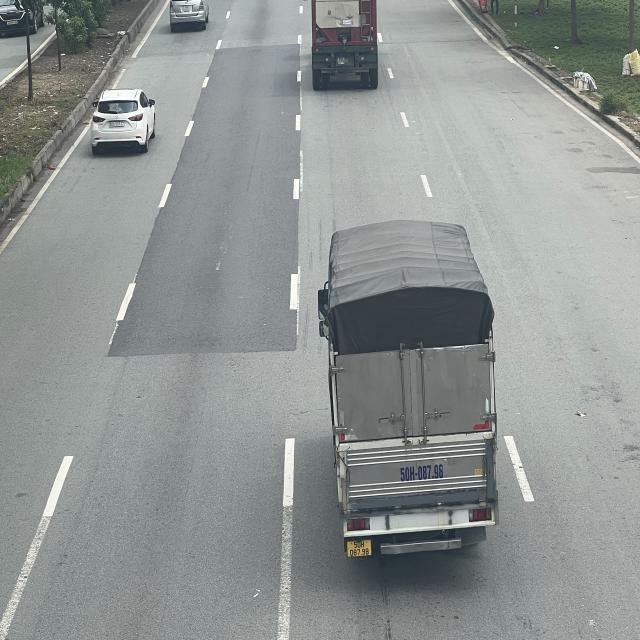car: (91, 86, 156, 151), (168, 1, 209, 27)
container: (309, 0, 378, 87)
truck: (317, 220, 500, 564)
